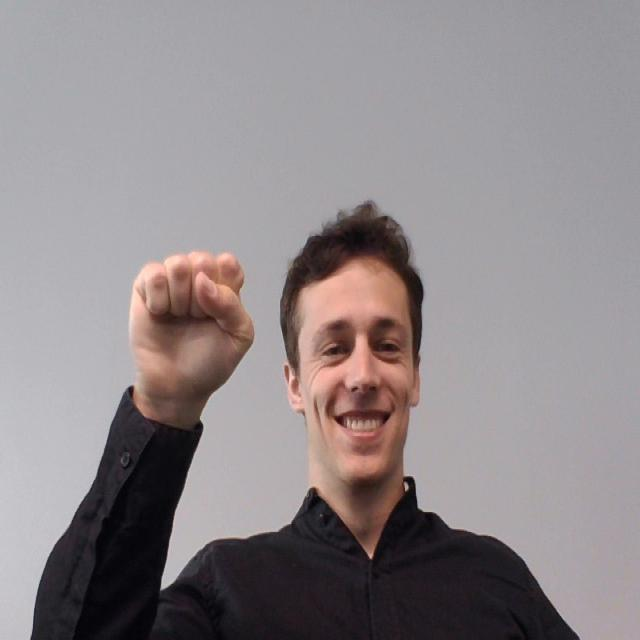stop: (124, 244, 256, 415)
